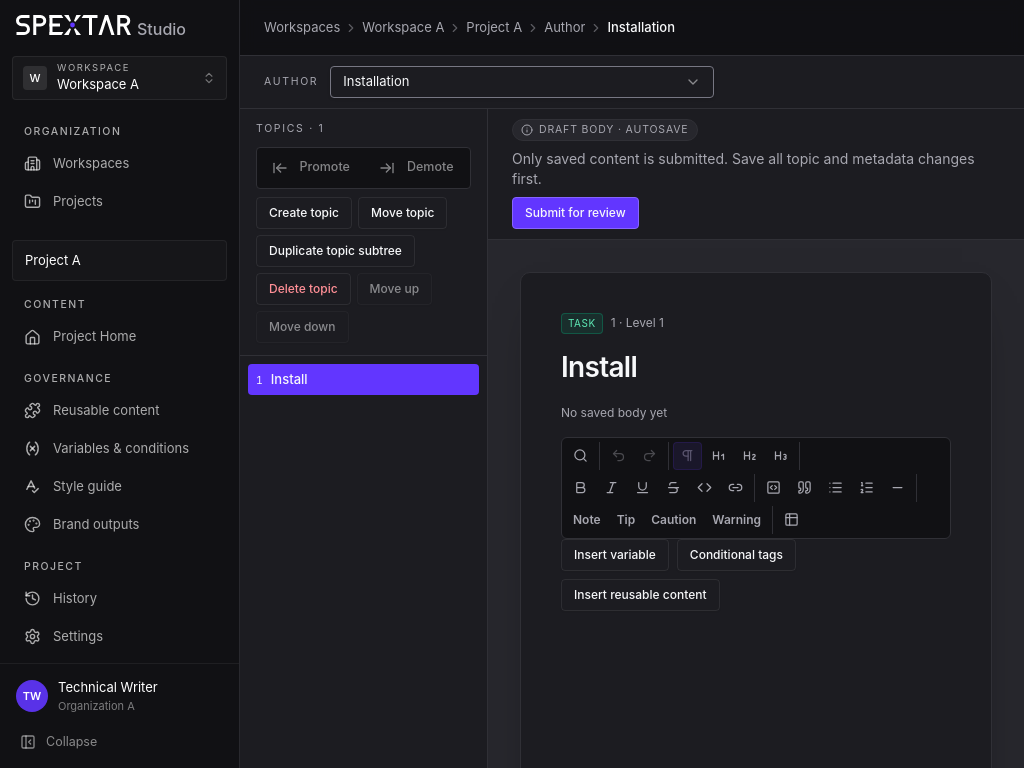
Test case: F2 UI persistence and read-only states › creates a topic under the selected parent and refreshes the outline
Click the button "Create topic" at coordinates (304, 213), box [256,197,352,229]
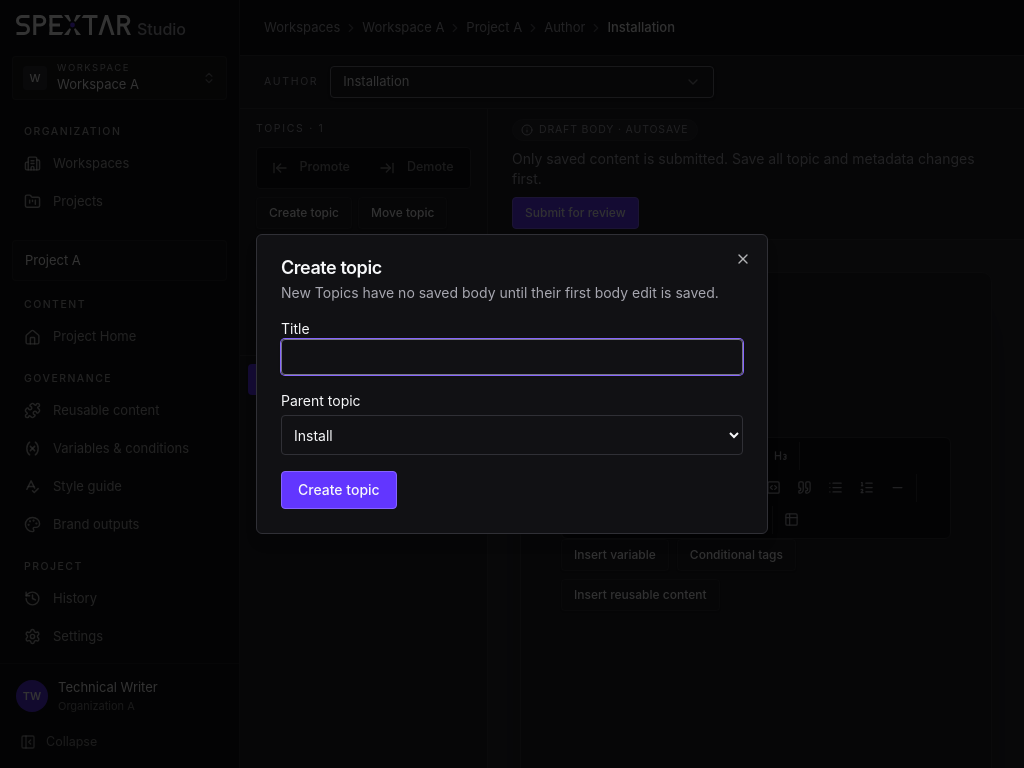
Type "Safety precautions" into the field named "Create topic title" at coordinates (512, 357), box [281,339,743,375]
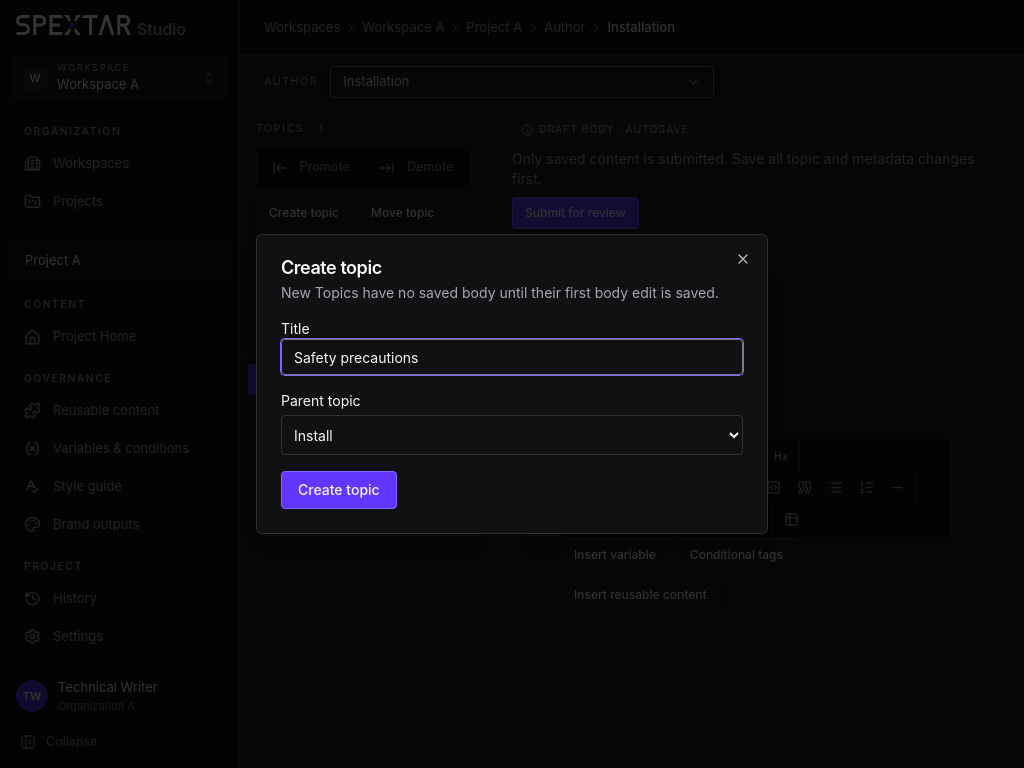
Click the button "Create topic" at coordinates (339, 490), box [281,471,397,509]
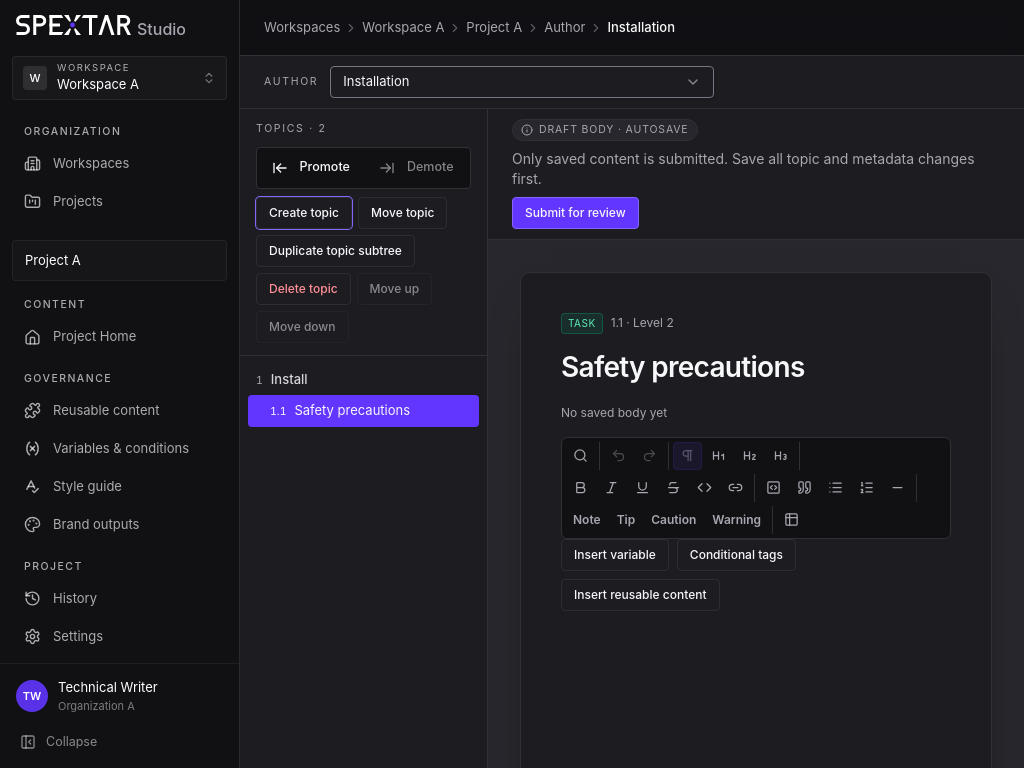
Result: the option with test id "outline-topic-new-topic" is shown at [248,395,479,427]
